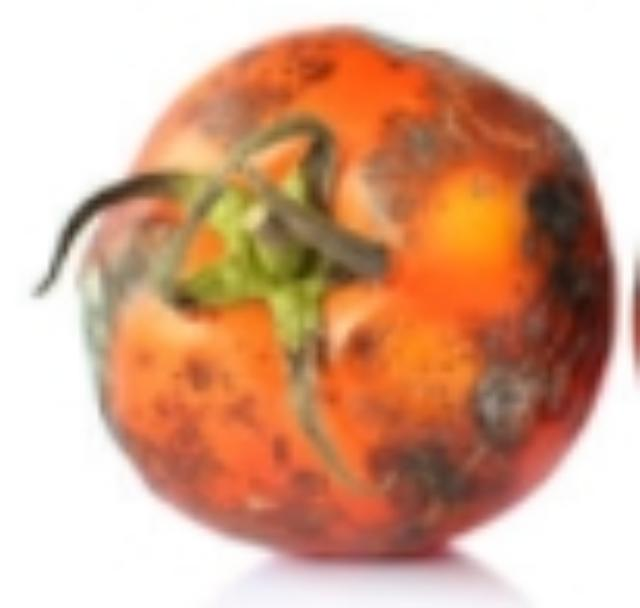defect: (26, 23, 626, 562)
